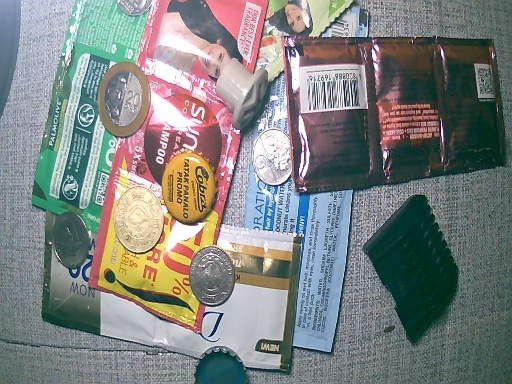metal: (96, 63, 152, 140), (164, 148, 216, 224), (111, 182, 161, 254), (191, 245, 239, 306), (252, 127, 296, 185), (192, 342, 252, 384), (51, 207, 93, 263)
plastic: (39, 222, 303, 377), (284, 36, 512, 190), (25, 1, 161, 215), (139, 1, 254, 227), (244, 184, 350, 356), (252, 1, 381, 75)
trash: (362, 194, 463, 345), (215, 61, 275, 133)
